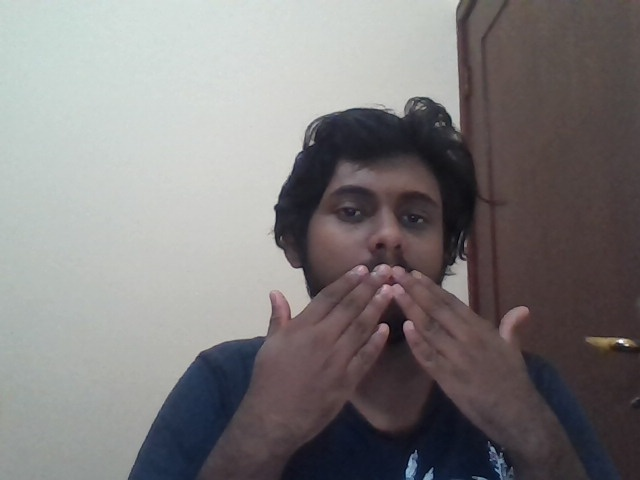thankyou: (268, 264, 529, 384)
